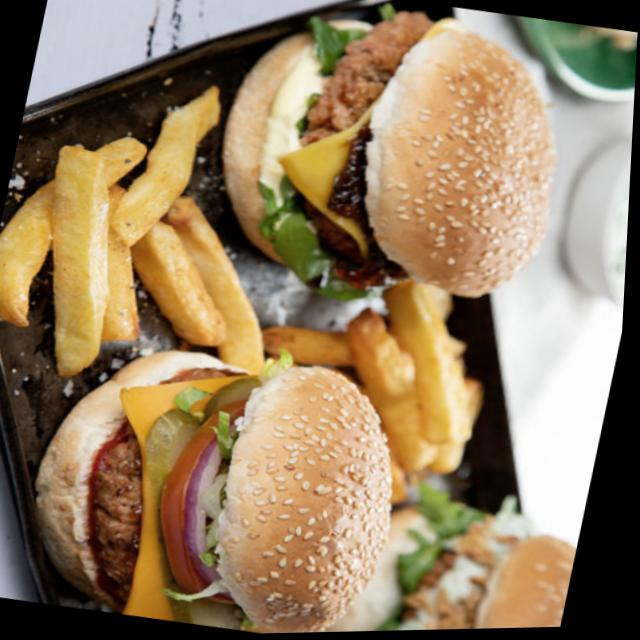burger: (8, 312, 431, 639), (194, 0, 589, 324), (321, 485, 590, 634)
